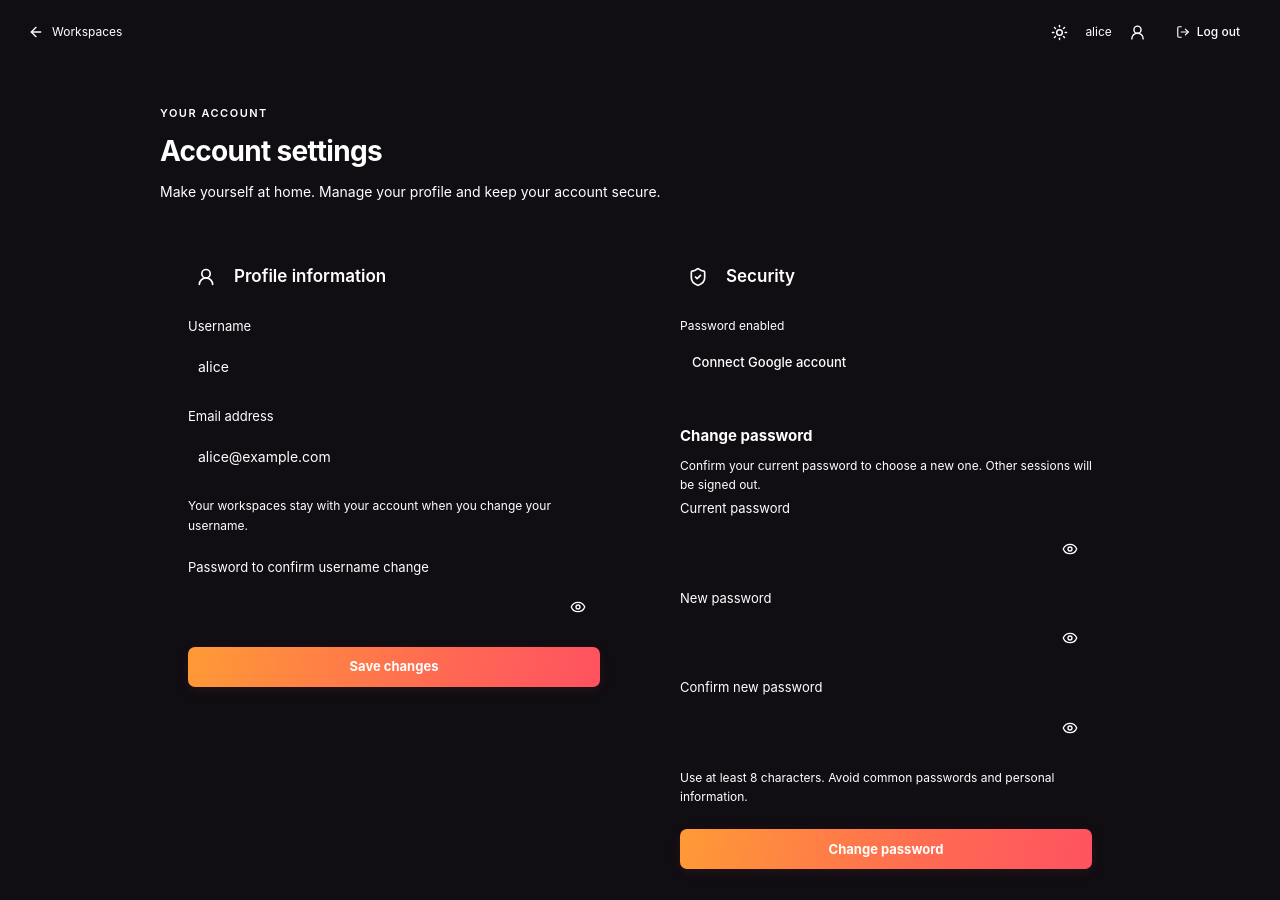
Test: updates username and shared account display after confirming the password
Replace the text in the field labelled "Username" with "renamed" at (394, 367), box [188,345,600,389]
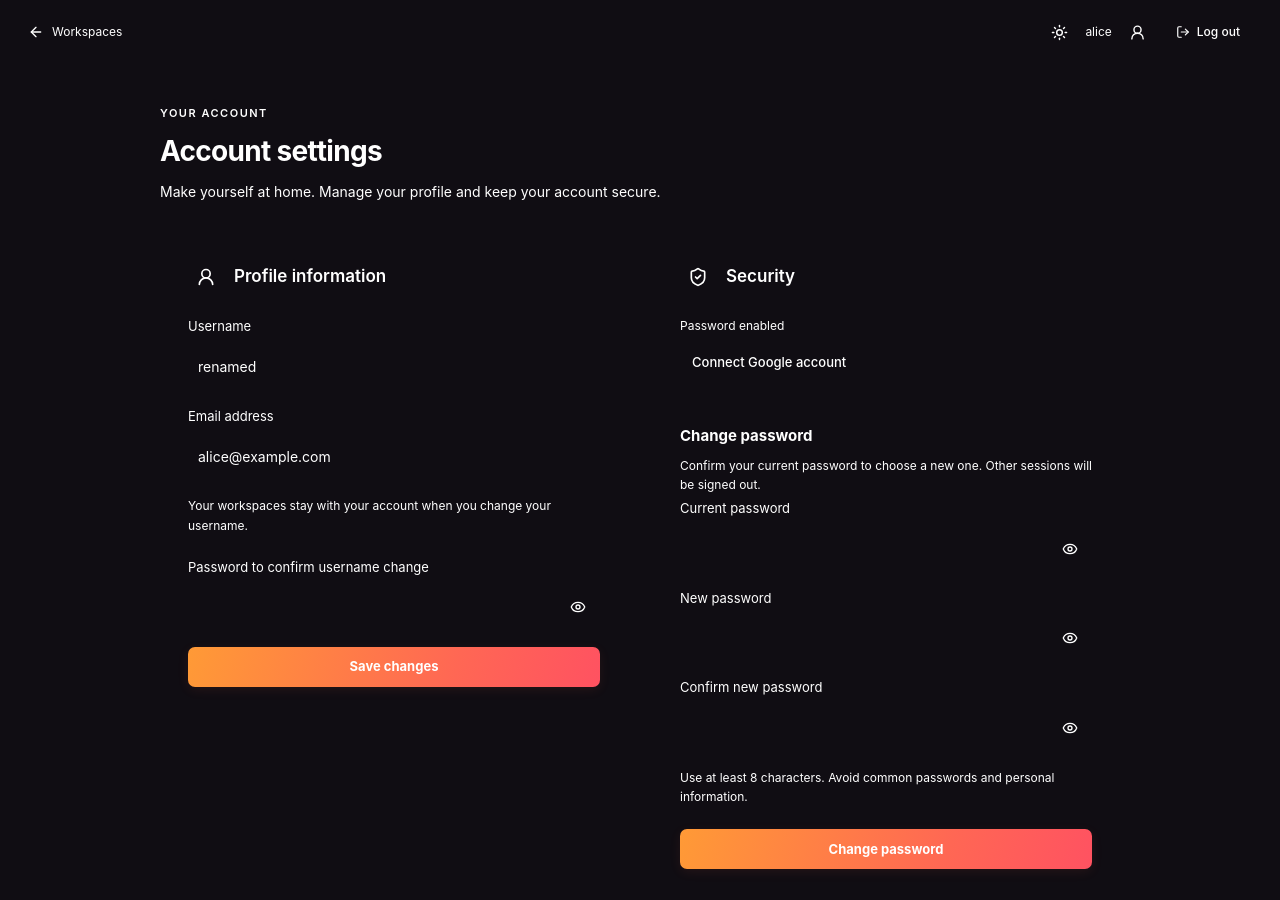
Type "Original-secret!7524" into the password field labelled "Password to confirm username change" at (394, 607), box [188,585,600,629]
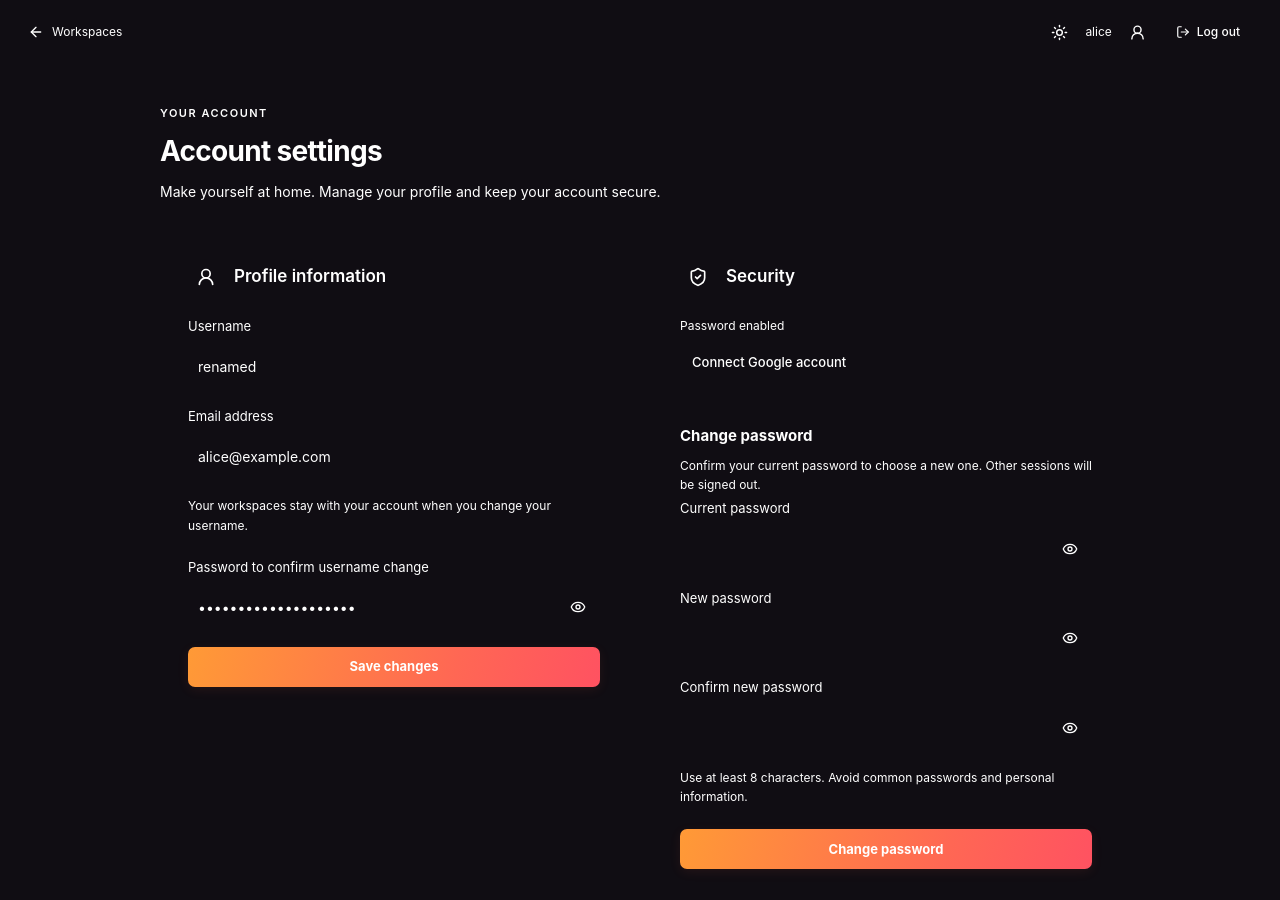
Click the button "Save changes" at (394, 667), box [188,647,600,687]
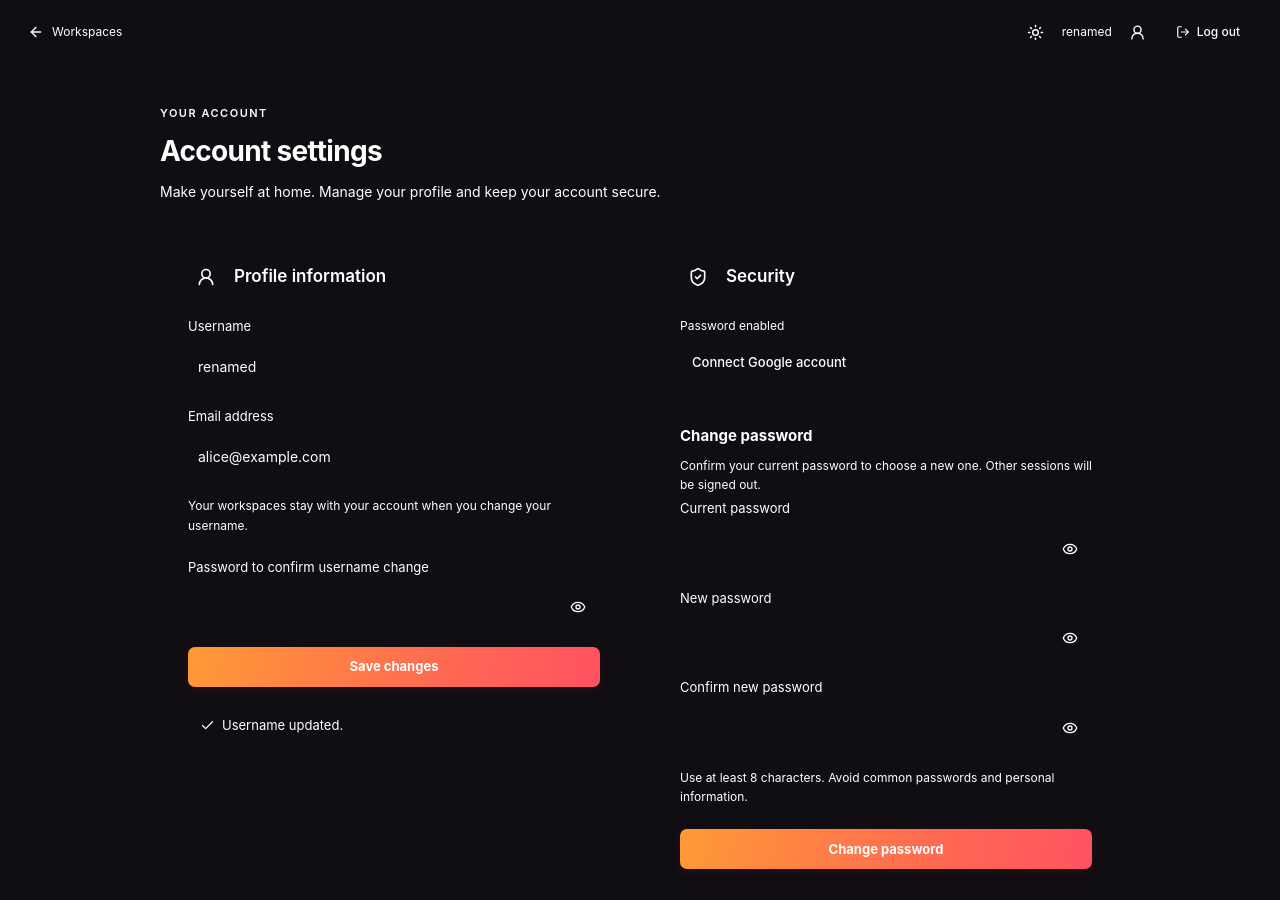
Check: the message reads "Username updated.", box [222,717,343,733]
Check: the text titled "renamed" is shown, box [1062,23,1112,41]
Check: the password field labelled "Password to confirm username change" is empty, box [188,585,600,629]
